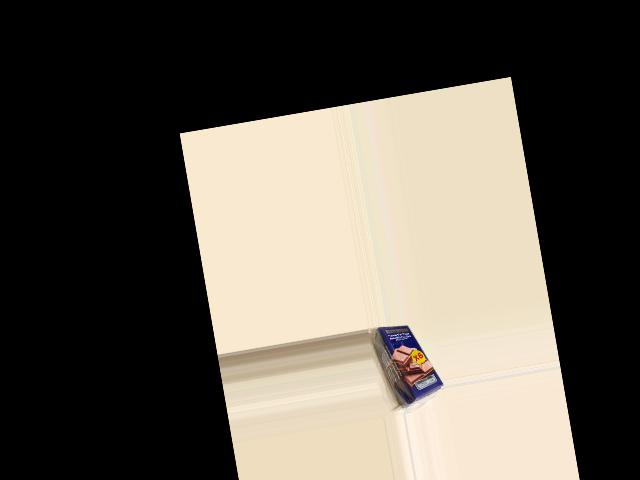chocolate: (372, 318, 446, 405)
